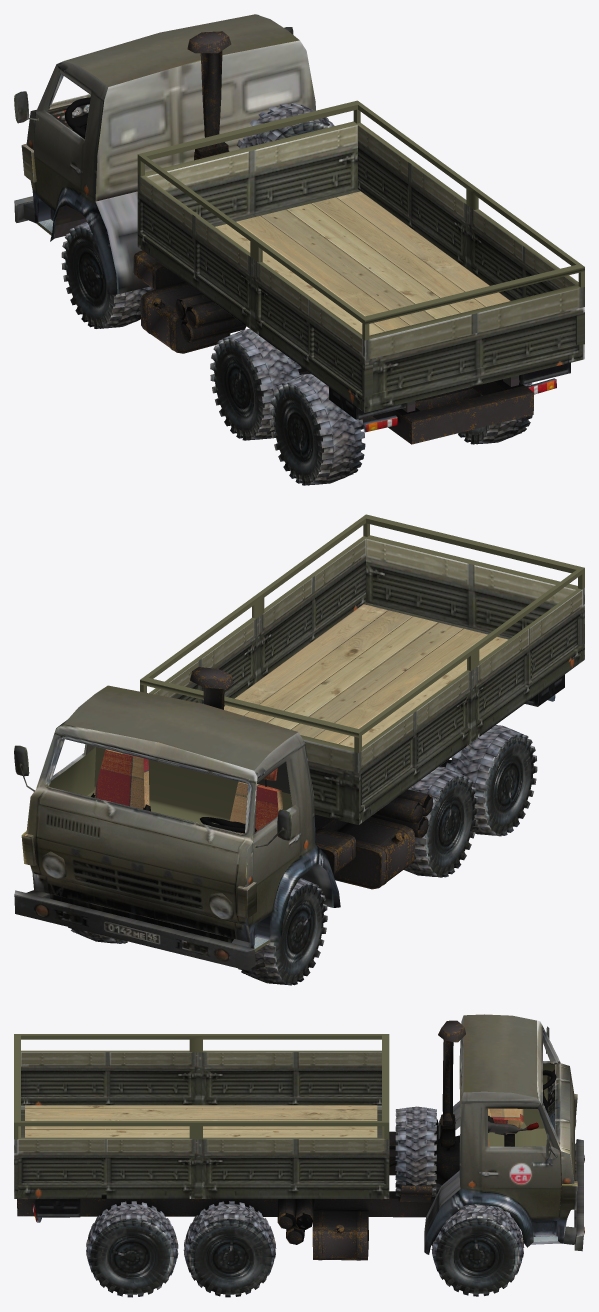
Rendered from truck_9.dae.
The picture shows the model from 3 angles, top to bottom: view 1: azimuth 30°, elevation 25°; view 2: azimuth 150°, elevation 25°; view 3: azimuth 270°, elevation 25°; orthographic projection. The views are drawn at different scales.
Parts seen in each view (by area): view 1: Bort, Fasad, Rama, Right, LZ, LC, Verh, FL, KamazFas, Zapaska, RZ, Niz; view 2: Bort, KamazFas, Verh, Rama, Right, LZ, LC, Salon, FL, Sidenie, Left, Fasad; view 3: Bort, Rama, Left, RZ, RC, RF, Verh, KamazFas, Zapaska, Fasad, Salon, Sidenie (+2 smaller).
Boxes of the visible parts, x1,y1,x2,y2 form: Bort: [137, 100, 584, 432]; Fasad: [95, 40, 315, 294]; Rama: [133, 31, 533, 444]; Right: [34, 61, 117, 294]; LZ: [269, 373, 365, 485]; LC: [210, 329, 303, 440]; Verh: [64, 14, 299, 86]; FL: [61, 222, 153, 328]; KamazFas: [14, 27, 293, 223]; Zapaska: [236, 103, 334, 149]; RZ: [458, 382, 532, 444]; Niz: [54, 205, 86, 238]; Bort: [140, 514, 584, 824]; KamazFas: [14, 724, 291, 970]; Verh: [64, 685, 297, 770]; Rama: [190, 667, 451, 889]; Right: [252, 732, 340, 951]; LZ: [445, 725, 537, 836]; LC: [404, 766, 478, 877]; Salon: [87, 747, 291, 834]; FL: [238, 878, 327, 985]; Sidenie: [91, 749, 282, 833]; Left: [49, 720, 95, 795]; Fasad: [301, 864, 333, 907]; Bort: [14, 1034, 389, 1222]; Rama: [17, 1020, 514, 1260]; Left: [424, 1091, 562, 1254]; RZ: [86, 1201, 178, 1297]; RC: [183, 1201, 276, 1297]; RF: [431, 1204, 524, 1296]; Verh: [463, 1014, 536, 1097]; KamazFas: [537, 1020, 584, 1251]; Zapaska: [395, 1106, 437, 1196]; Fasad: [424, 1016, 463, 1249]; Salon: [488, 1063, 559, 1146]; Sidenie: [488, 1108, 523, 1146].
Bounding box in the file's own units: 297 × 284 × 638.
